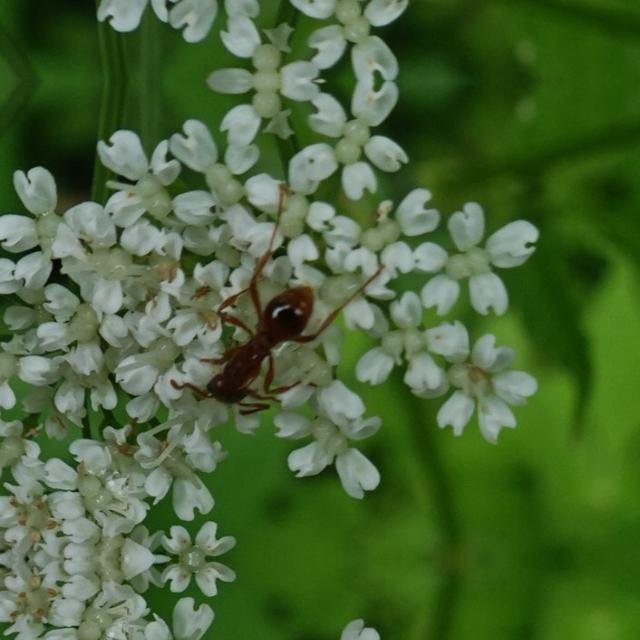Myrmica: (162, 262, 364, 430)
